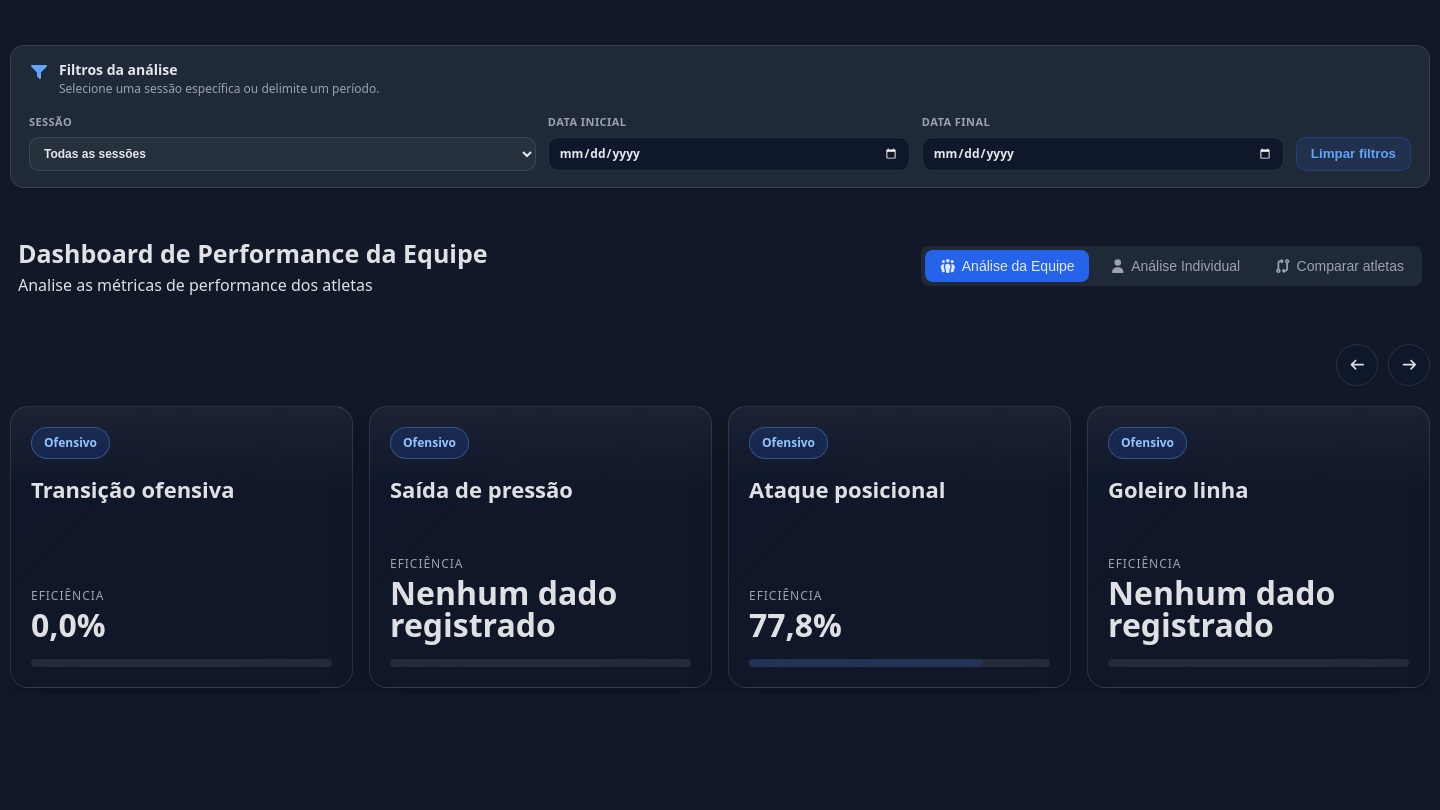
Test: CoachDashboard › shows the backend rating on the player card and removes OFF and DEF
Click the button "Análise Individual" at (1174, 266), box [1095, 250, 1254, 282]
(page scrolled)
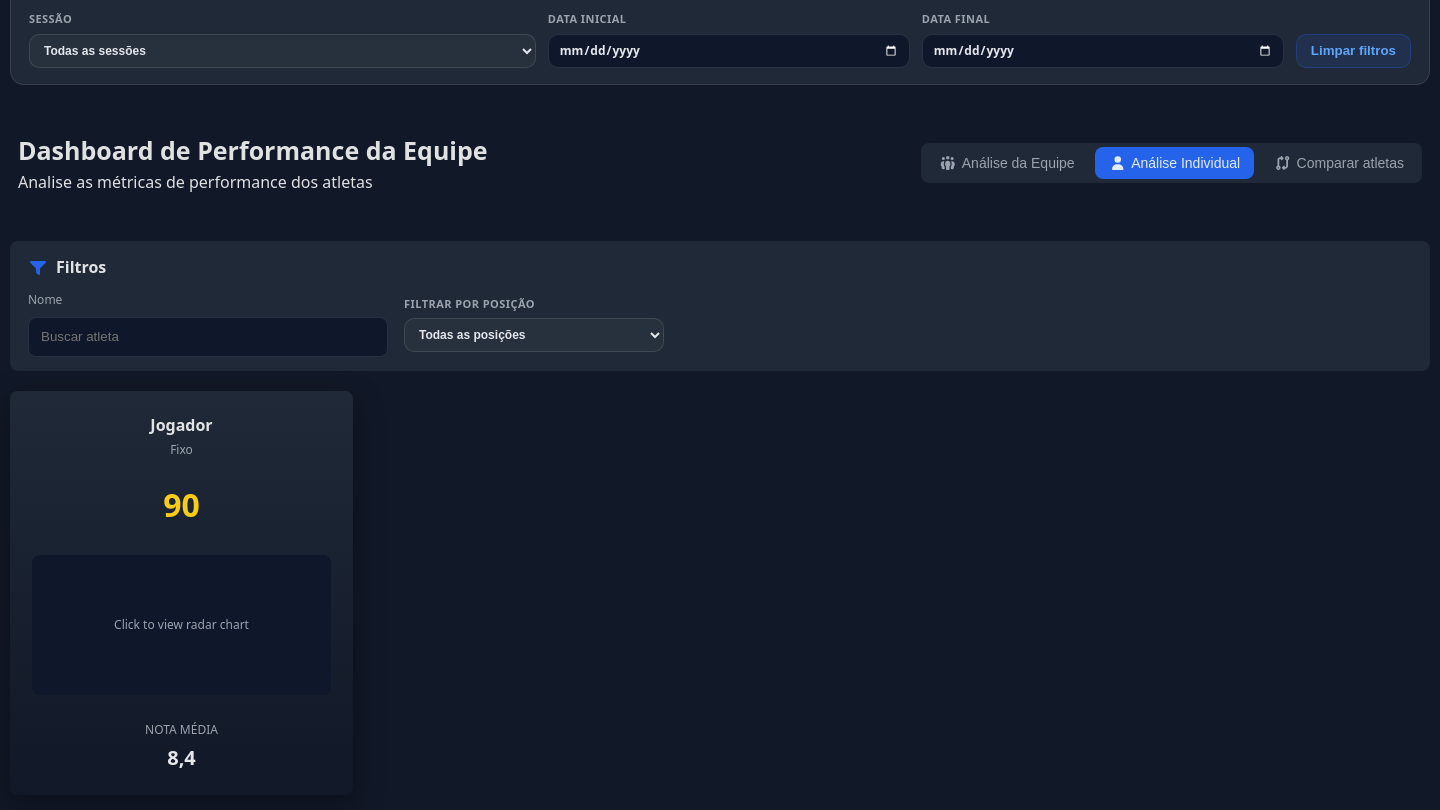
Expected: the text "NOTA MÉDIA" is shown, [145, 721, 218, 739]
Expected: the text "8,4" is shown, [167, 744, 196, 771]
